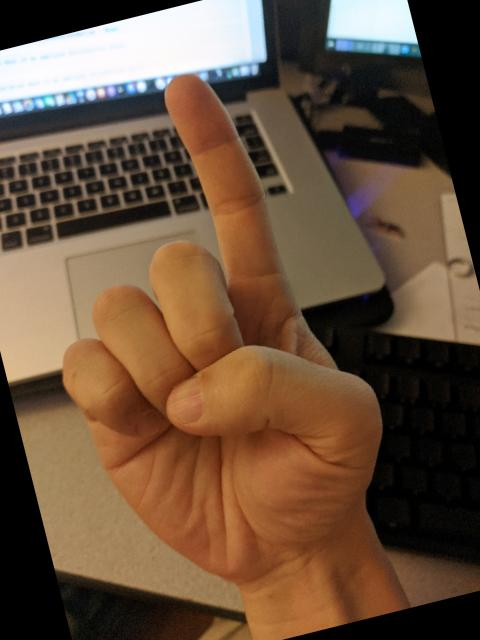D: (0, 37, 423, 627)
